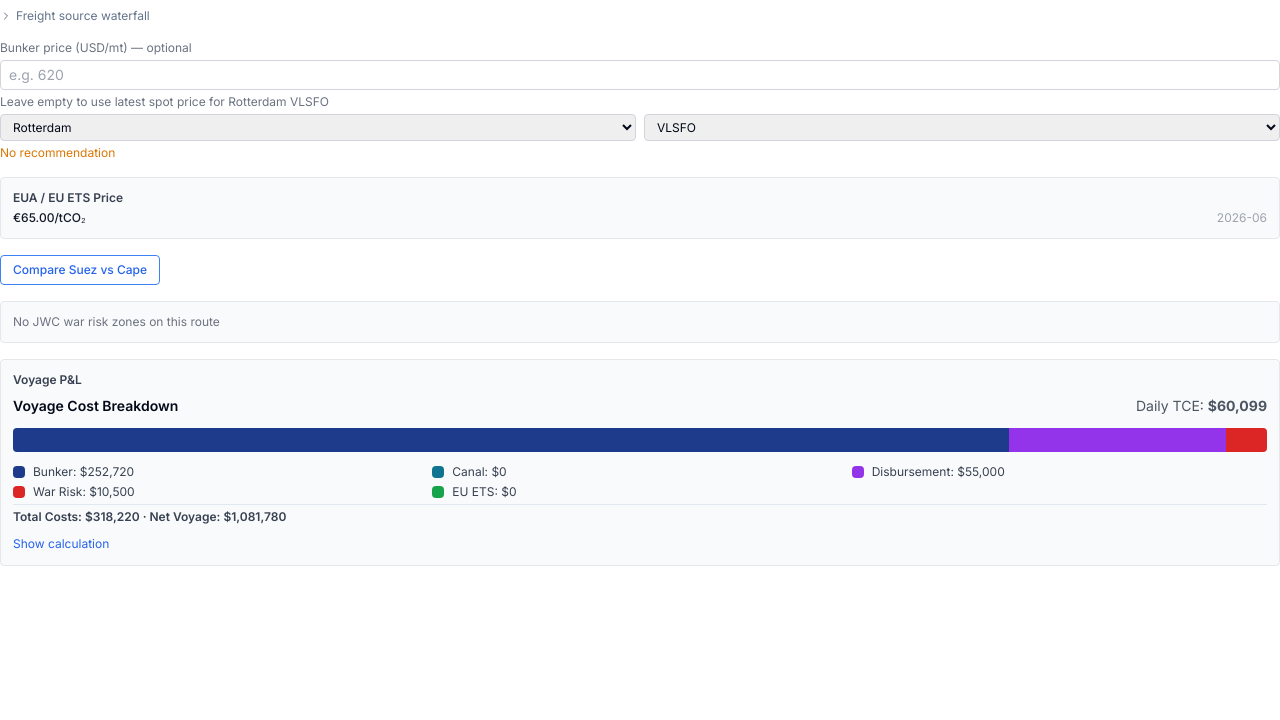
EconomicsTab — "Показать расчёт" toggle (B3) › shows waterfall after clicking toggle
This screenshot has width=1280, height=720.
Expected: the element with test id "voyage-breakdown-chart" is shown, [13,396,1267,525]
Click the button with test id "show-calc-toggle": x=61, y=544 [13,536,109,552]
(page scrolled)
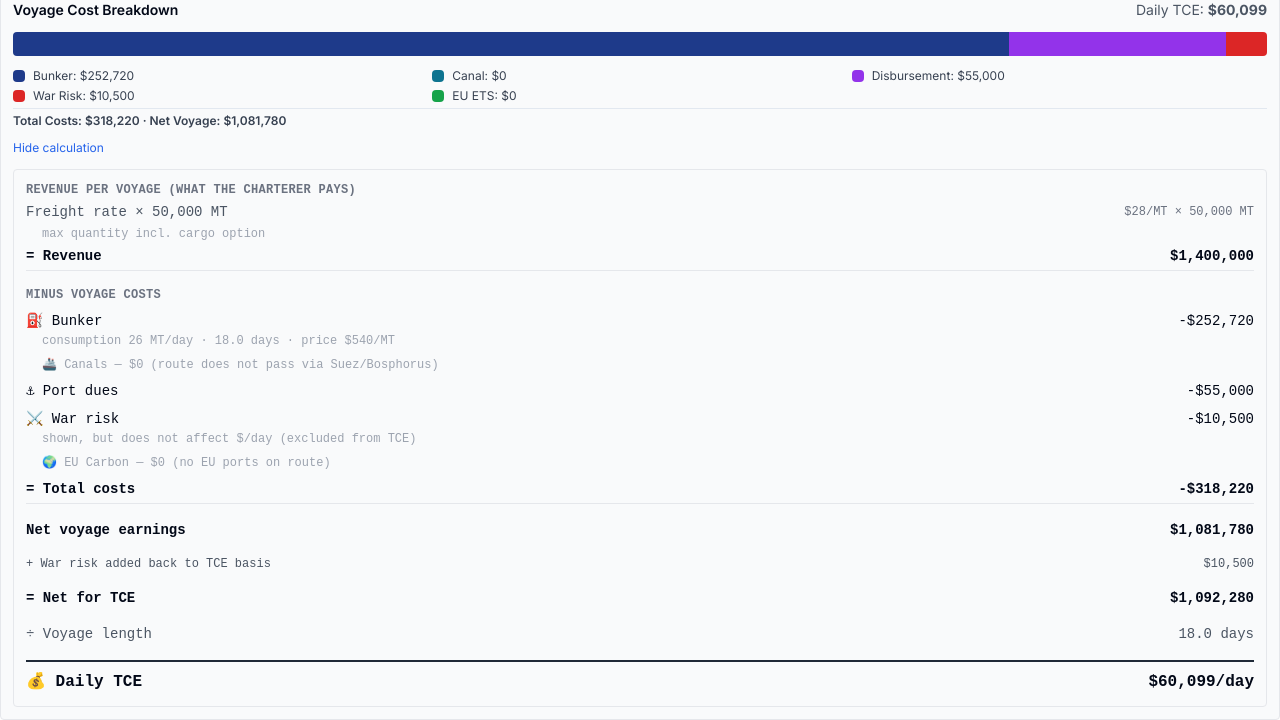
Now the element with test id "calculation-waterfall" is shown
